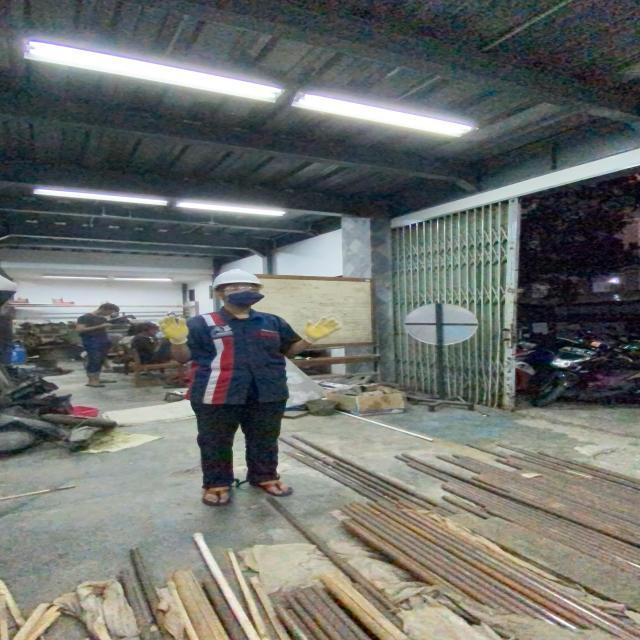glasses: (216, 284, 262, 294)
